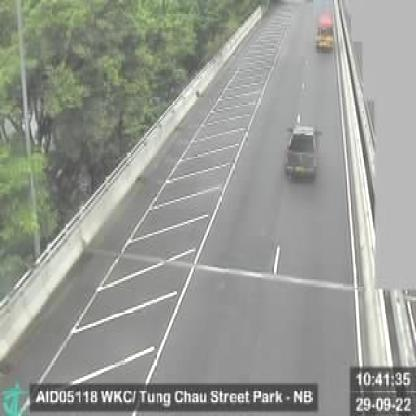Car: (280, 118, 322, 196)
Minibus: (312, 7, 335, 59)
